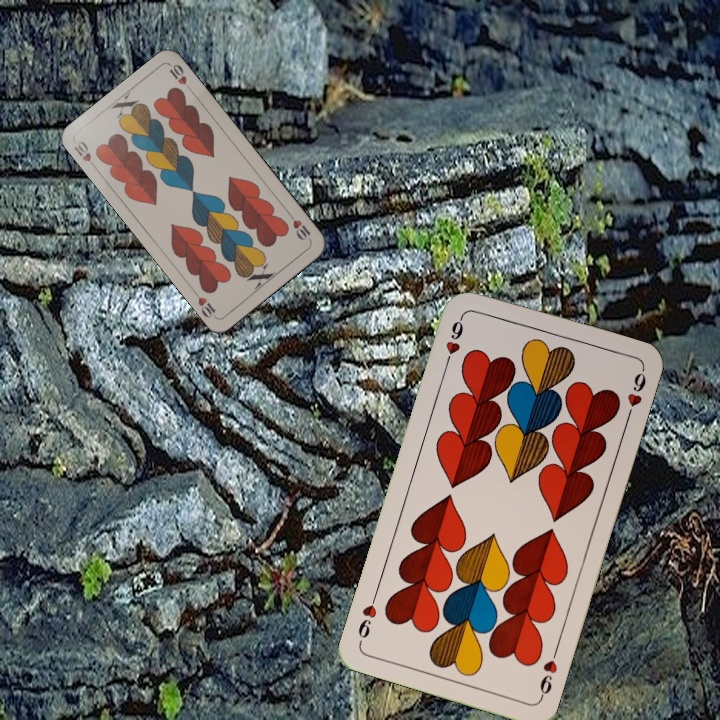H10: (70, 137, 100, 173), (284, 209, 314, 243)
H9: (535, 644, 561, 702), (441, 311, 466, 369)
